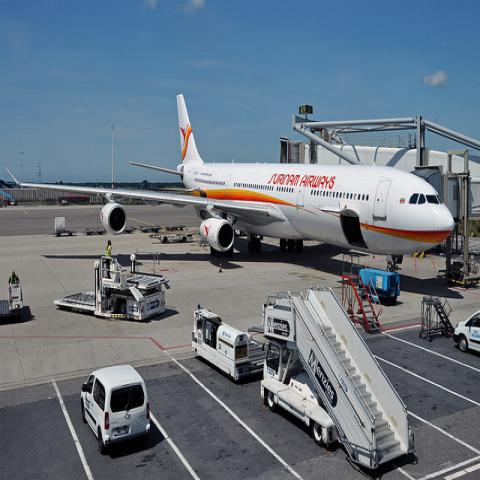car: (80, 362, 150, 458), (452, 308, 480, 357)
truck: (258, 338, 340, 450), (189, 305, 267, 384), (358, 267, 399, 305)
